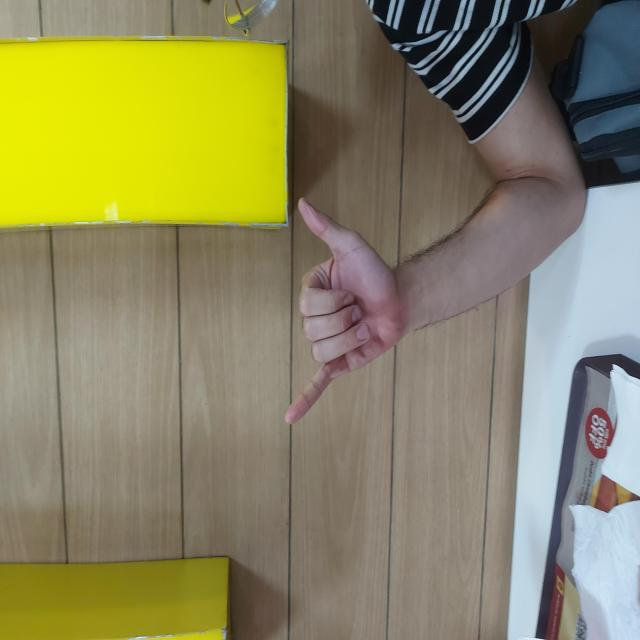Y: (210, 281, 445, 401)
